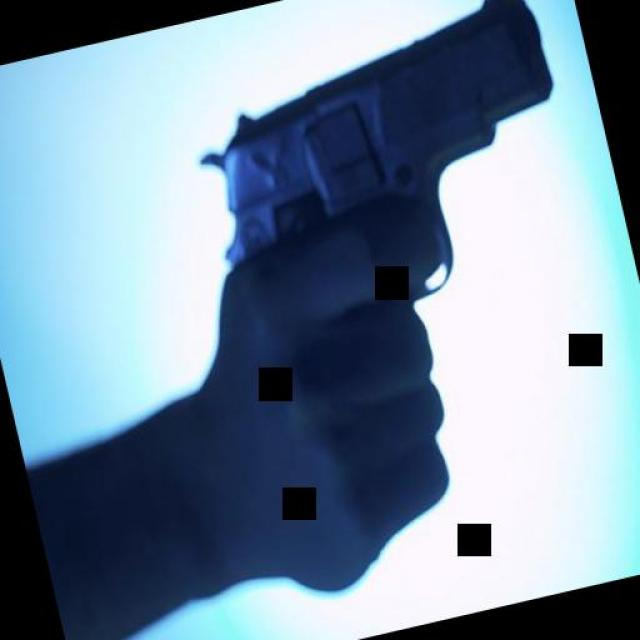gun: (167, 0, 595, 354)
